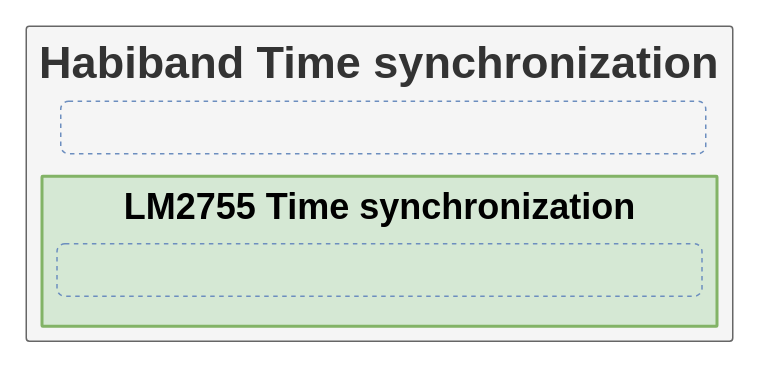
Some shapes in this 759 by 368 pixel diagram are drawn without their labels. Here are the shapes that lost their labels. From the top down, the centre of each, then its label:
At (x=382, y=127): "void HabibandTimeSynchronization(HabibandT* device)".
At (x=379, y=269): "void LM2755_TimeSynchronization(LM2755_ControlT* device)".
